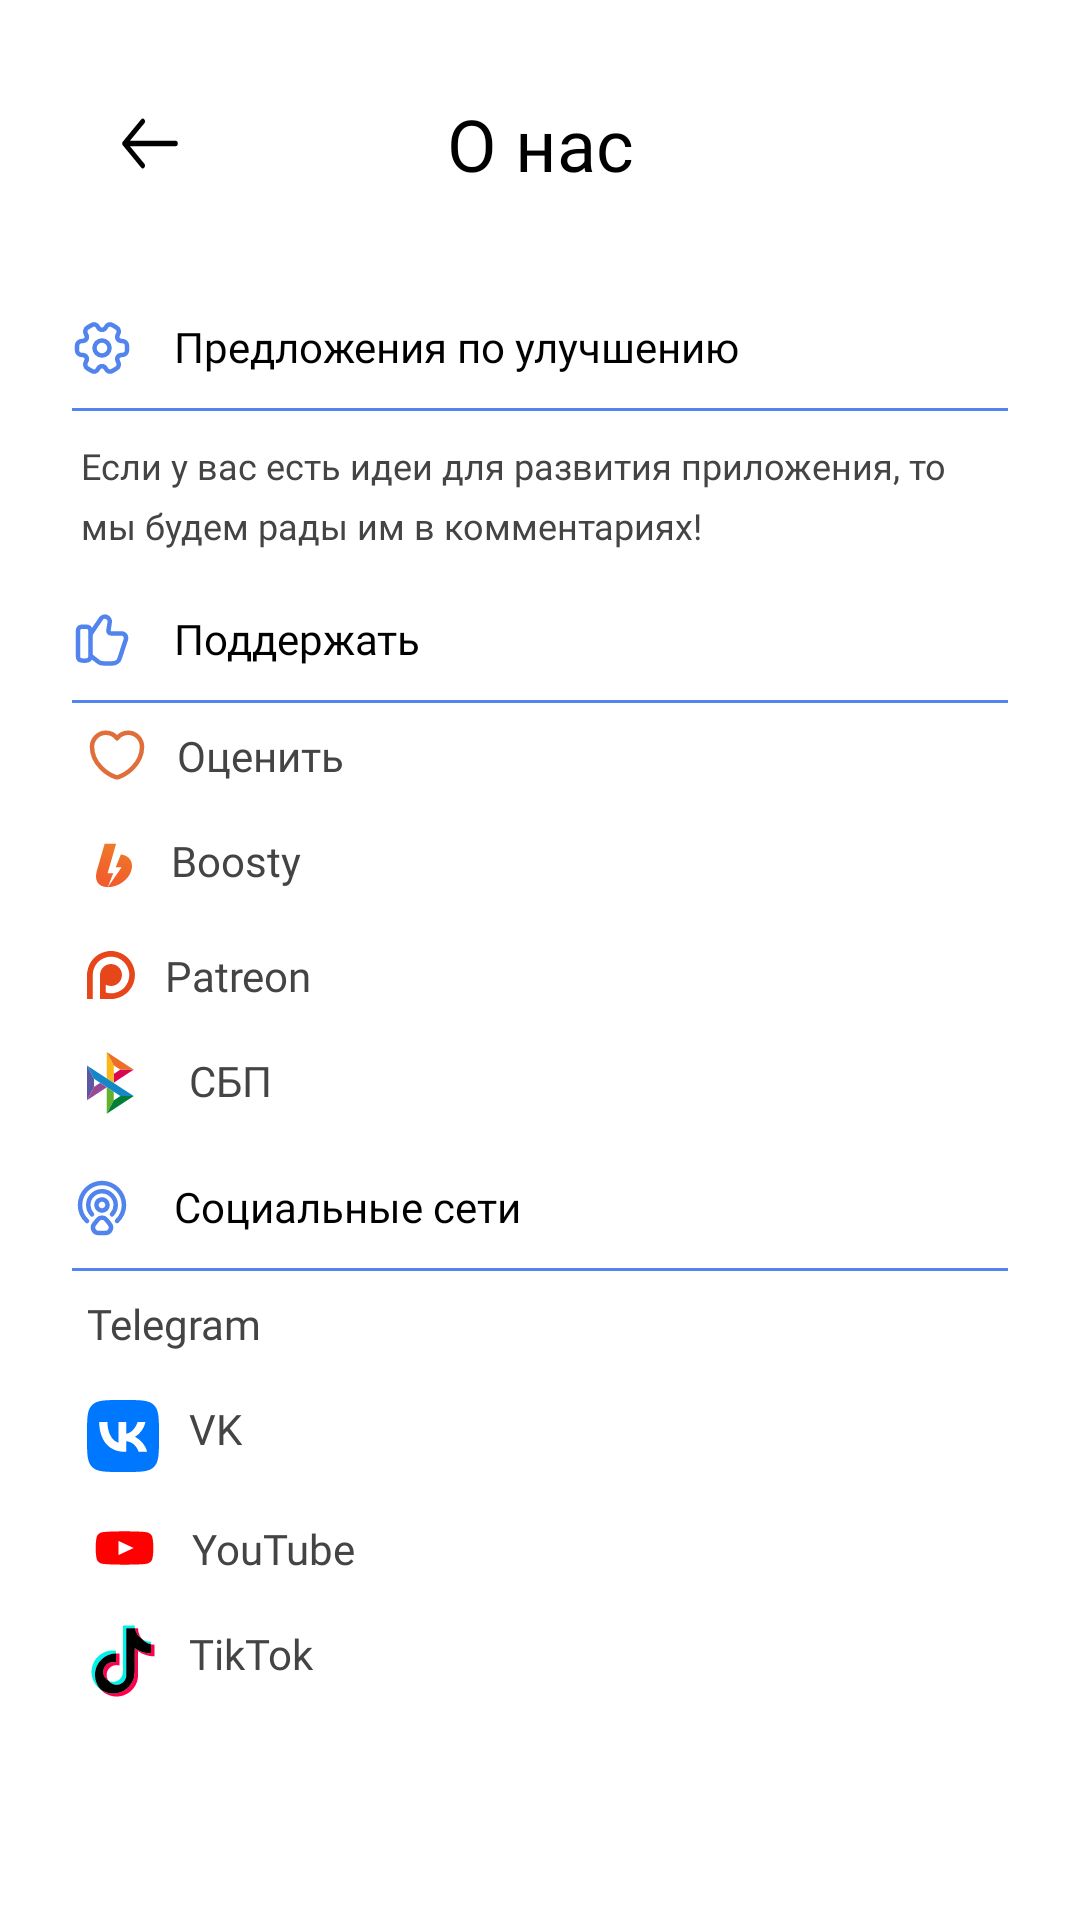

Screen size 1080 x 1920. Icon name, then its box in pixels as (x1, y1, x2, y2):
arrow: (122, 118, 178, 169)
